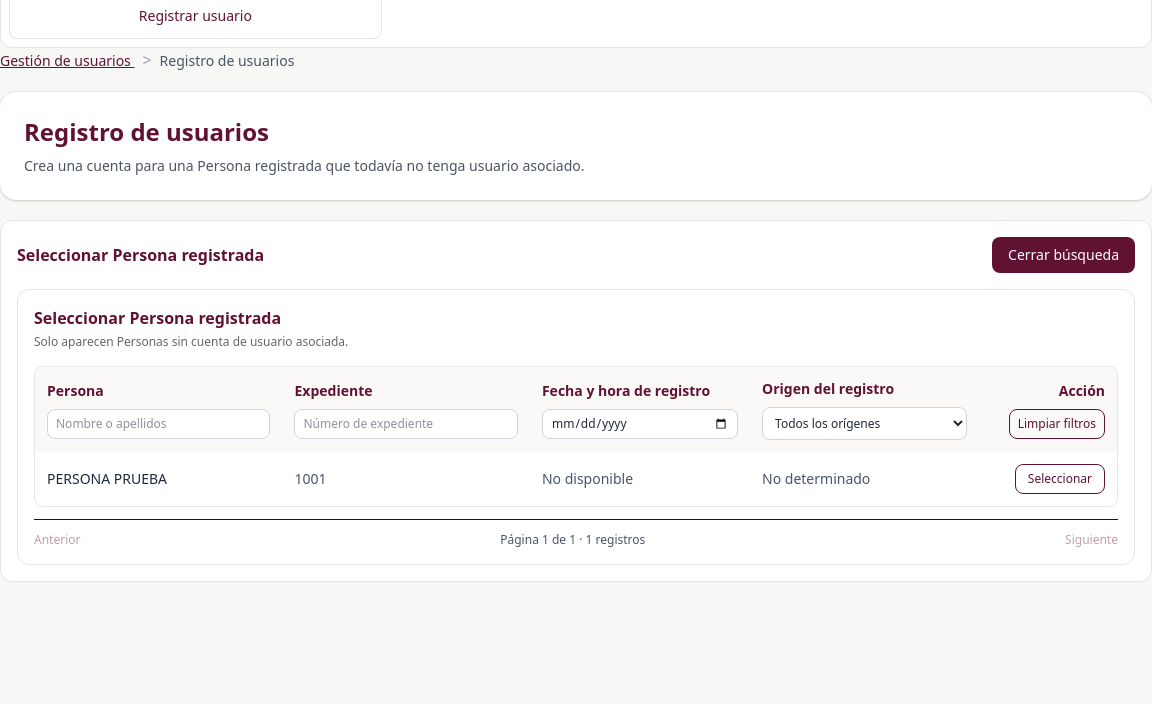
Test case: UserRegistrationPageComponent › selecciona Persona desde la interfaz sin crear cuenta anticipadamente
What coordinates should you click on to do the following:
click the button "Seleccionar"
I would click on:
 (1060, 479)
Its box is [1015,464,1105,494].
(page scrolled)
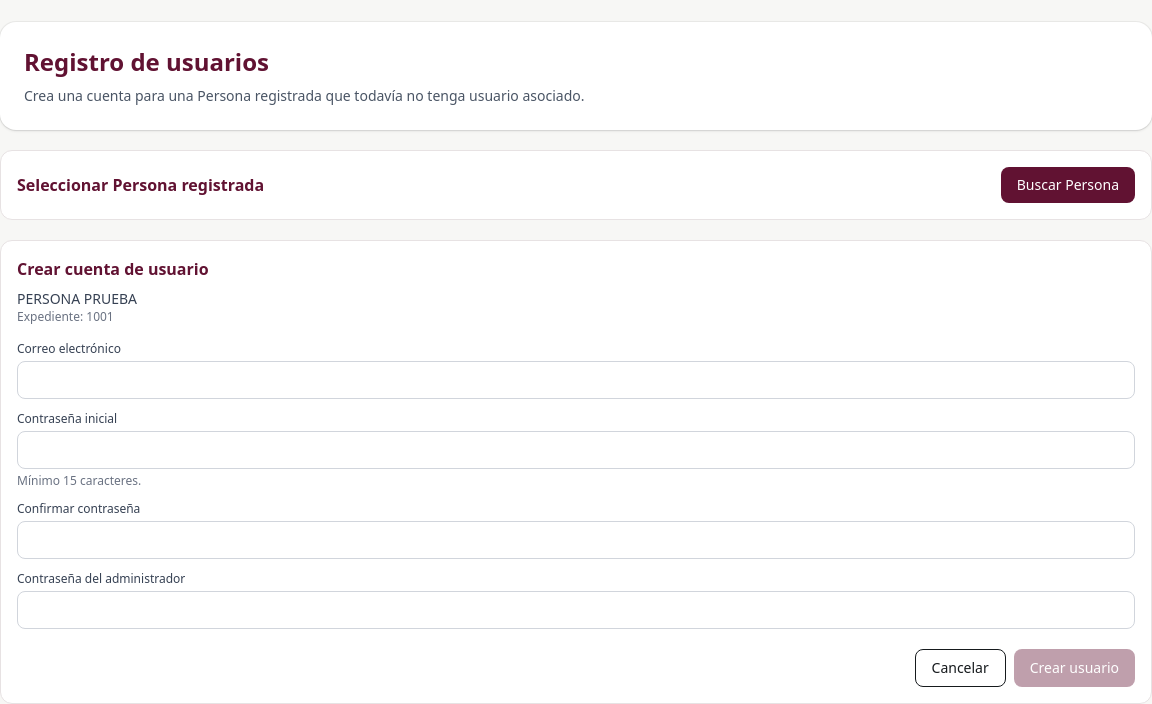
Now the element that starts with "Crear cuenta de usuario" is shown
